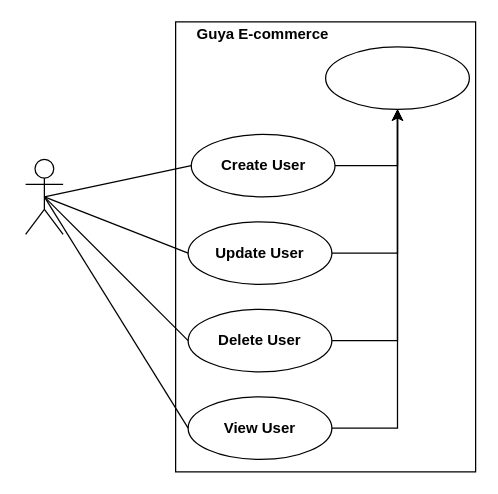
This 498x494 diagram has some shape labels left out. The shapes that lost their labels are listed below. From the top down, each one's box as (x1, y1, x2, y2) in pixels, then its label:
(324, 46, 469, 109): Manage Users {abstract}
(24, 158, 63, 234): Admin
